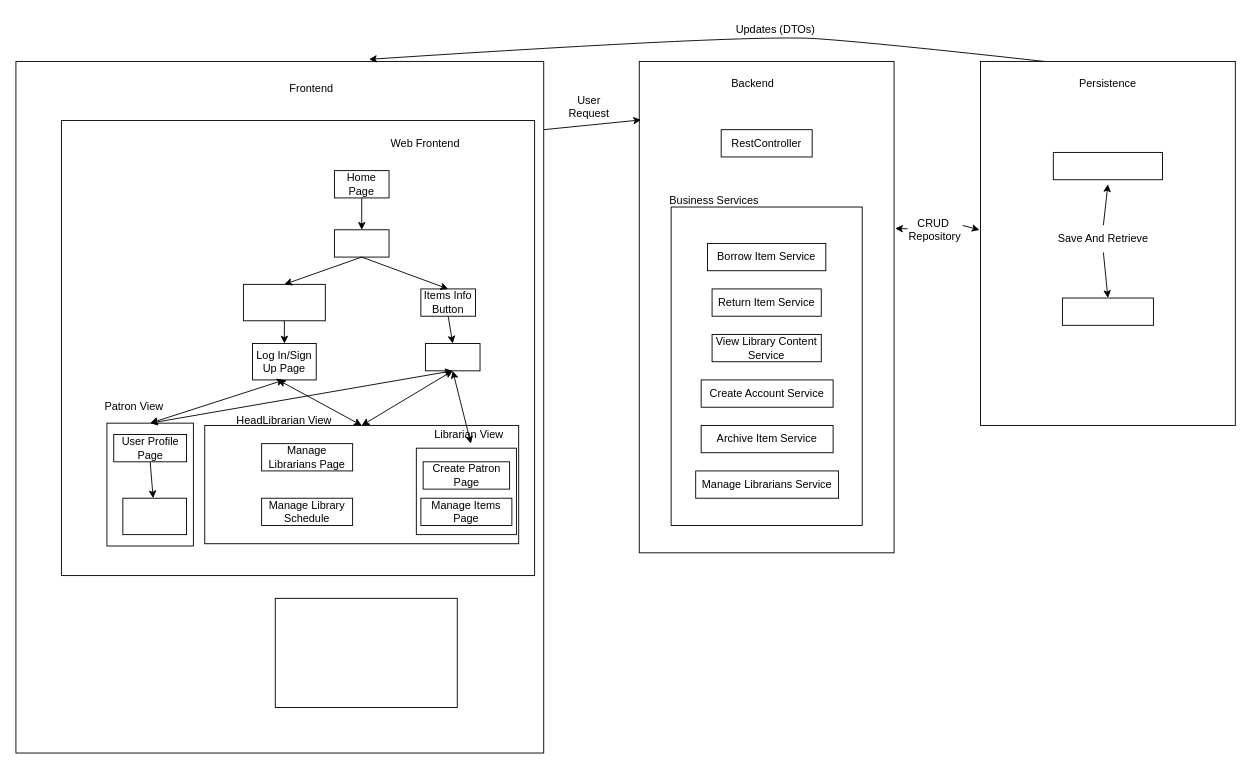
Image size: 1251x769. Some labels were removed from this diagram. The box of each missing label's shape, as (x1, y1, x2, y2) in pixels:
Android Frontend: (274, 597, 457, 708)
Borrowed Items Page: (122, 497, 187, 535)
Heroku Database: (1062, 297, 1153, 325)
Items Info Page: (425, 343, 480, 371)
Log In/SignUp Button: (243, 283, 325, 321)
Model Classes: (1052, 152, 1163, 180)
Navbar: (334, 229, 389, 257)
